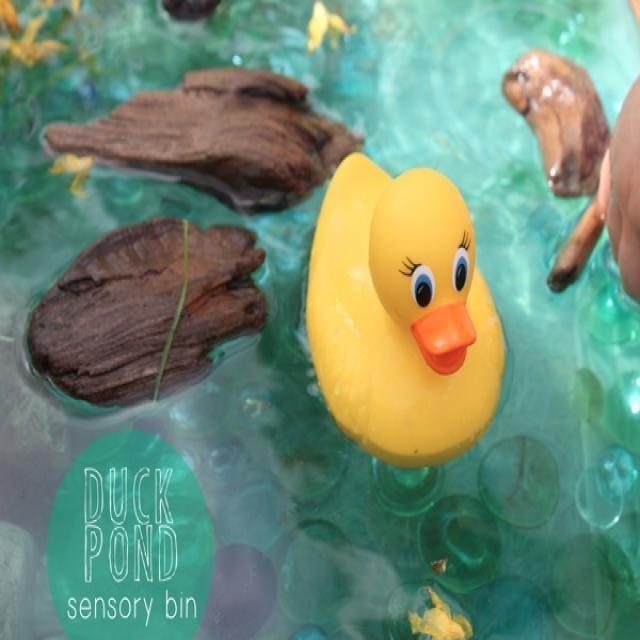rubber-duck: (306, 153, 502, 466)
